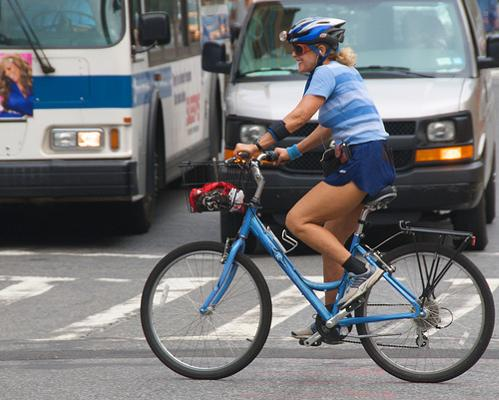person: (233, 19, 399, 338)
